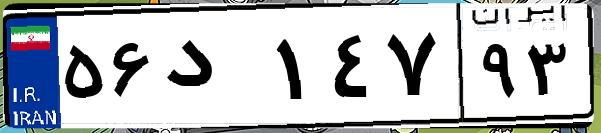1: (270, 28, 330, 110)
3: (525, 38, 570, 115)
4: (330, 28, 385, 110)
5: (57, 26, 110, 100)
6: (110, 28, 158, 98)
7: (385, 28, 445, 110)
9: (475, 38, 525, 113)
د: (158, 20, 270, 120)
